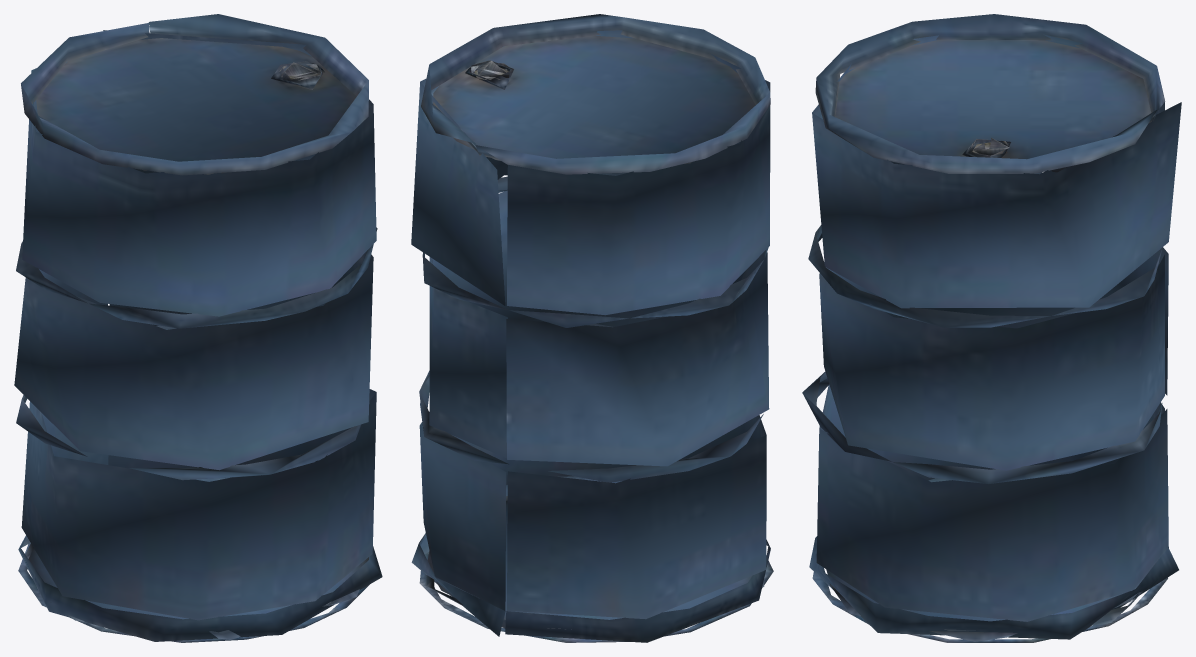
The model's file is barrel-low.glb.
3 renders of one model, left to right at view 1: azimuth 30°, elevation 25°; view 2: azimuth 150°, elevation 25°; view 3: azimuth 270°, elevation 25°, orthographic.
Parts seen in each view (by area): view 1: barrel_03 baked; view 2: barrel_03 baked; view 3: barrel_03 baked.
Boxes of the visible parts, bbox=[...] form: barrel_03 baked: bbox=[14, 14, 382, 642]; barrel_03 baked: bbox=[411, 14, 773, 642]; barrel_03 baked: bbox=[802, 14, 1181, 642].
Size of the model in its own units: 0.6497 by 0.9305 by 0.664.
Materials: 1 (1 with a texture image).
